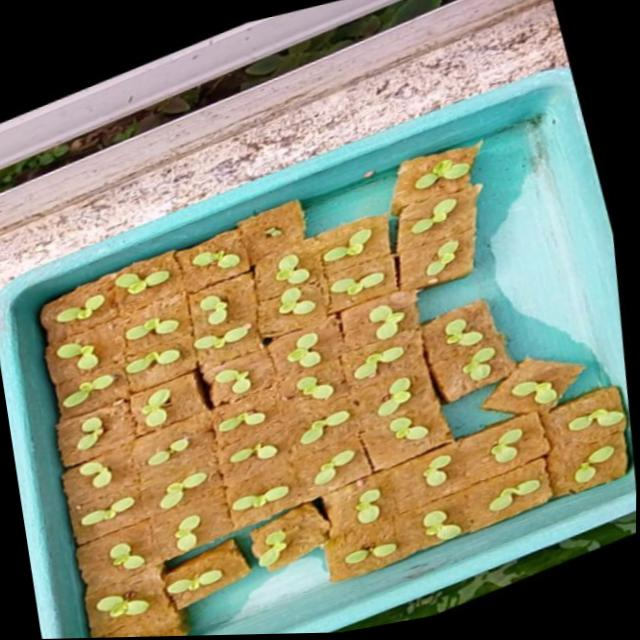Baby: (538, 447, 604, 492), (473, 374, 536, 421), (64, 547, 135, 588), (103, 440, 168, 479), (464, 476, 526, 516), (16, 384, 79, 422), (349, 381, 403, 423), (297, 272, 353, 312), (176, 372, 225, 414), (522, 424, 581, 457), (325, 355, 379, 391), (20, 421, 66, 462), (127, 483, 176, 520), (383, 165, 440, 196), (271, 418, 320, 453), (436, 352, 477, 393), (380, 205, 426, 241), (46, 509, 101, 538), (157, 331, 216, 358), (290, 232, 338, 264), (87, 357, 143, 384), (14, 302, 65, 331), (73, 277, 130, 302), (337, 311, 374, 348), (101, 397, 135, 437), (253, 341, 288, 377), (196, 451, 250, 474), (397, 517, 436, 548), (395, 247, 428, 283), (186, 419, 235, 442), (361, 424, 402, 451), (244, 295, 282, 324), (15, 353, 57, 379), (241, 262, 275, 294), (462, 435, 494, 469), (416, 323, 454, 350), (153, 256, 203, 276), (42, 471, 78, 498), (143, 526, 170, 562), (265, 383, 305, 407), (288, 461, 318, 493), (87, 326, 129, 348), (396, 462, 424, 495), (327, 497, 353, 532), (162, 302, 191, 332)
